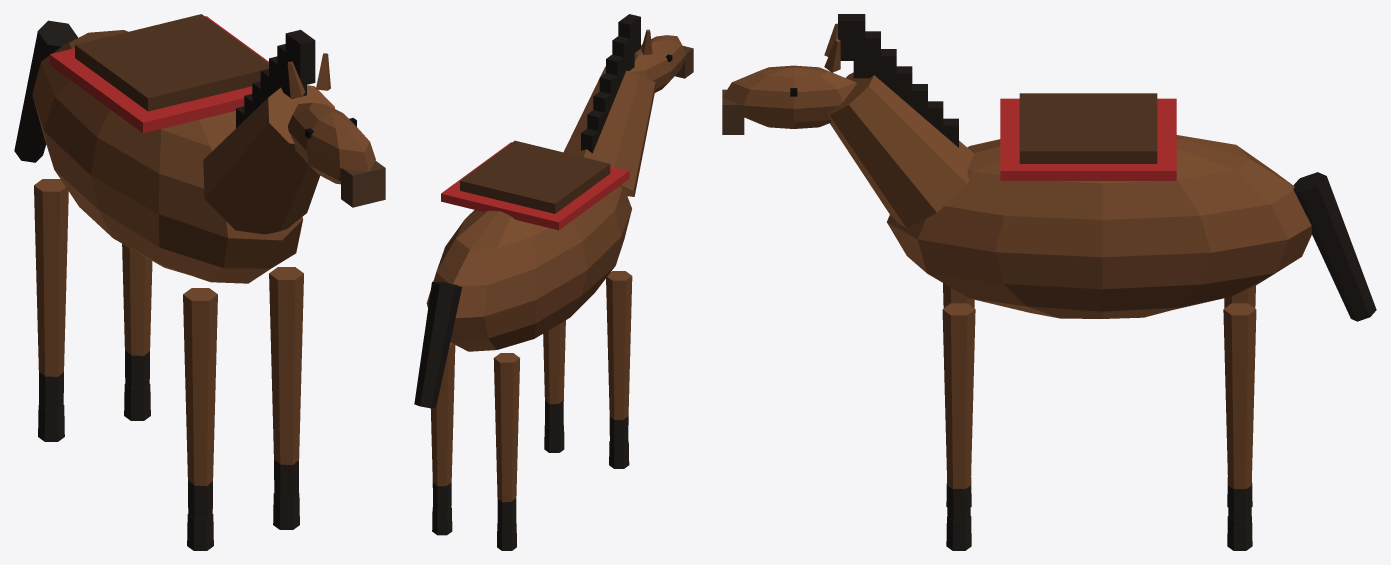
Rendered from Animal_Horse.obj.
3 renders of one model, left to right at view 1: azimuth 30°, elevation 25°; view 2: azimuth 150°, elevation 25°; view 3: azimuth 270°, elevation 25°, orthographic. The views are drawn at different scales.
Visible parts, largest first — view 1: Animal_Horse; view 2: Animal_Horse; view 3: Animal_Horse.
Boxes of the visible parts, box(x1,y1,x2,y2) form: Animal_Horse: box(14, 14, 385, 550); Animal_Horse: box(414, 14, 693, 550); Animal_Horse: box(722, 14, 1376, 550).
Size of the model in its own units: 0.62 by 2.04 by 2.38.
